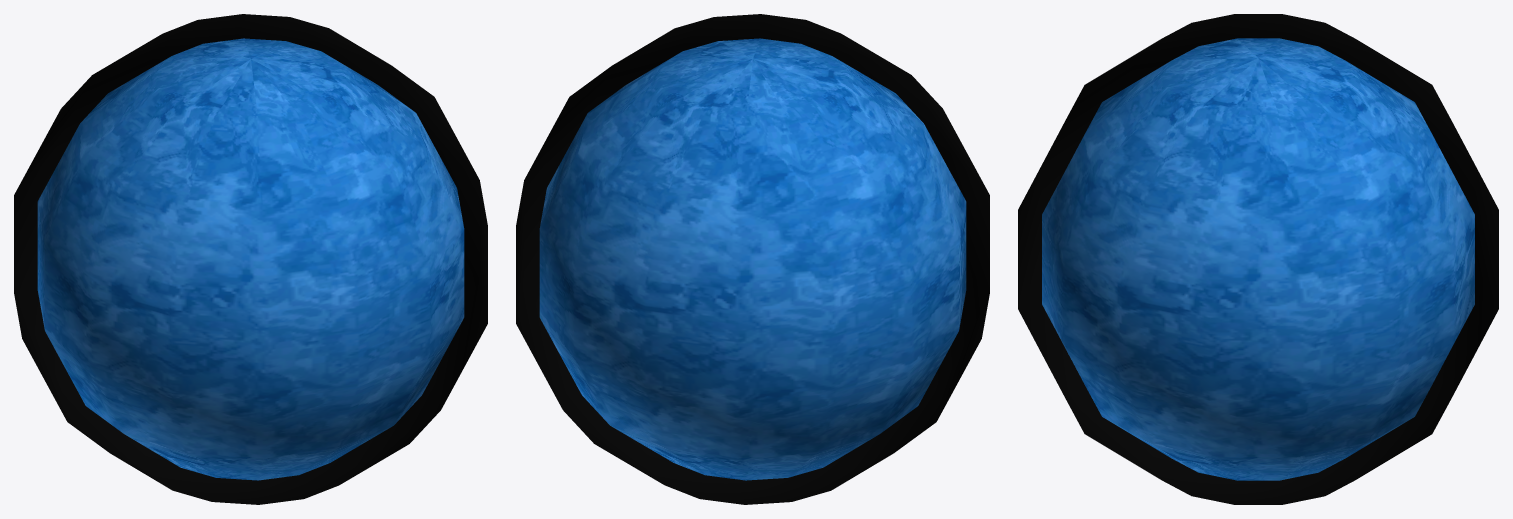
Rendered from OPENINGCRYSTAL_CRYSTALPED_BLUE_PU.fbx.
The picture shows the model from 3 angles, left to right: view 1: azimuth 30°, elevation 25°; view 2: azimuth 150°, elevation 25°; view 3: azimuth 270°, elevation 25°; orthographic projection.
Visible parts, largest first — view 1: OPENINGCRYSTAL_CRYSTALPED_BLUE_PU; view 2: OPENINGCRYSTAL_CRYSTALPED_BLUE_PU; view 3: OPENINGCRYSTAL_CRYSTALPED_BLUE_PU.
Part boxes in pixels (bbox=[...]): OPENINGCRYSTAL_CRYSTALPED_BLUE_PU: bbox=[14, 14, 487, 504]; OPENINGCRYSTAL_CRYSTALPED_BLUE_PU: bbox=[516, 14, 989, 504]; OPENINGCRYSTAL_CRYSTALPED_BLUE_PU: bbox=[1018, 14, 1498, 504].
Size of the model in its own units: 2552 by 2684 by 2617.
2 materials, 2 textured.
